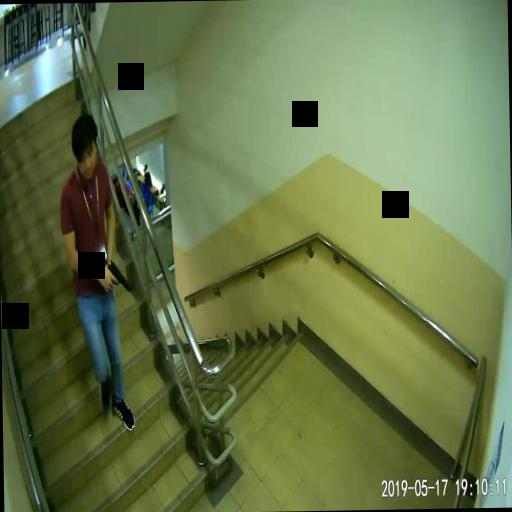Handgun: (105, 258, 130, 290)
